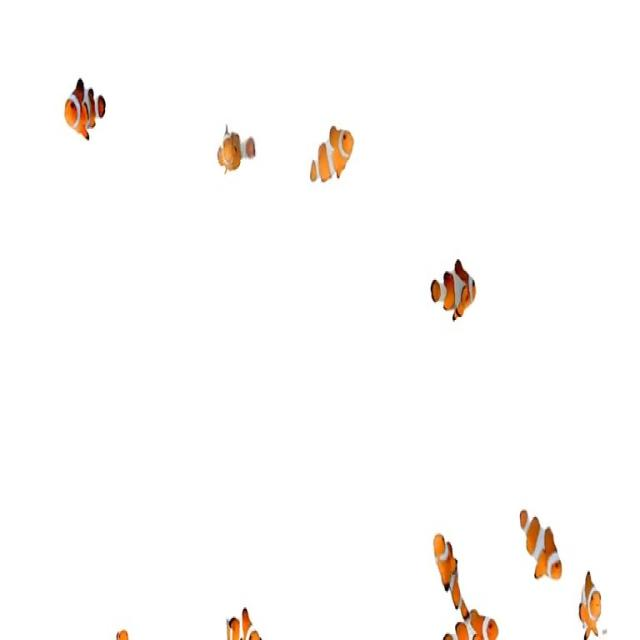fish: (427, 252, 485, 328), (519, 500, 566, 593), (427, 525, 473, 618), (60, 74, 112, 146), (307, 118, 356, 188), (210, 120, 260, 183), (442, 610, 503, 640), (579, 573, 604, 640)
